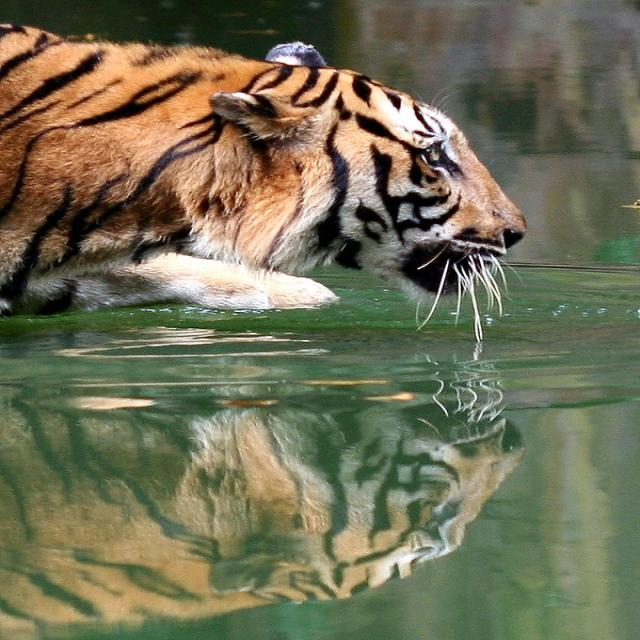Tiger: (0, 18, 529, 327), (0, 362, 555, 635)
